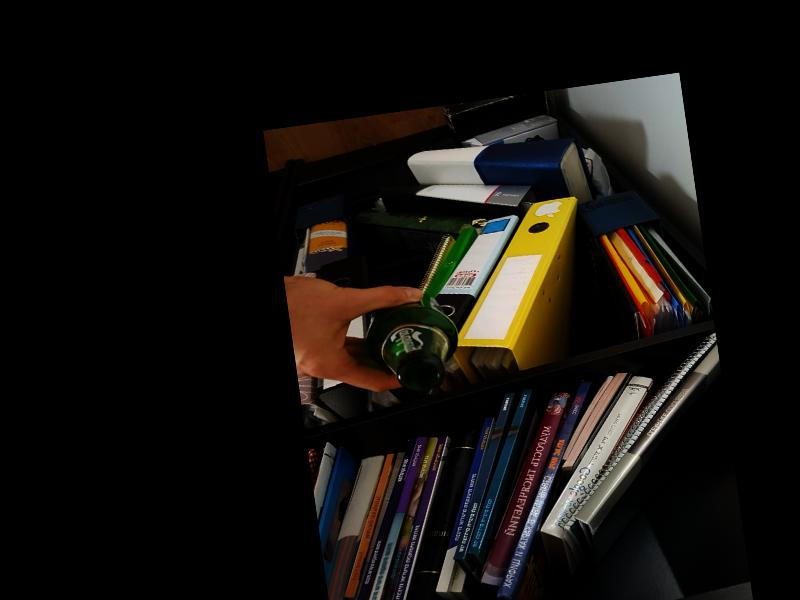Beer: (364, 289, 463, 395)
